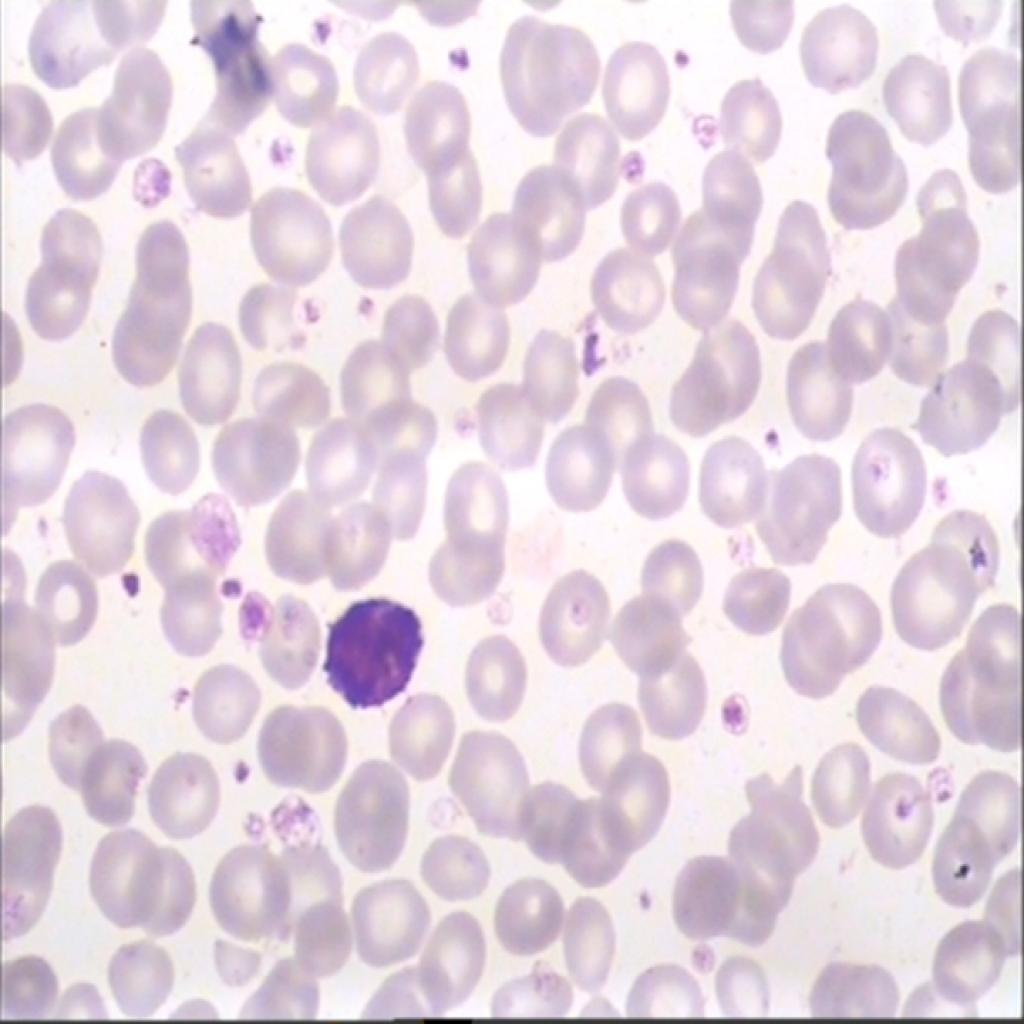Basofil: (310, 572, 440, 742)
Platelet: (124, 157, 178, 215), (298, 4, 348, 58), (221, 741, 263, 800), (114, 551, 149, 605), (263, 124, 299, 174), (286, 290, 324, 334), (614, 137, 644, 192), (353, 282, 385, 330), (722, 677, 751, 727), (670, 36, 700, 84), (442, 34, 472, 82), (963, 533, 993, 578), (632, 873, 657, 917), (752, 418, 784, 452), (218, 556, 242, 601), (238, 597, 264, 633)
